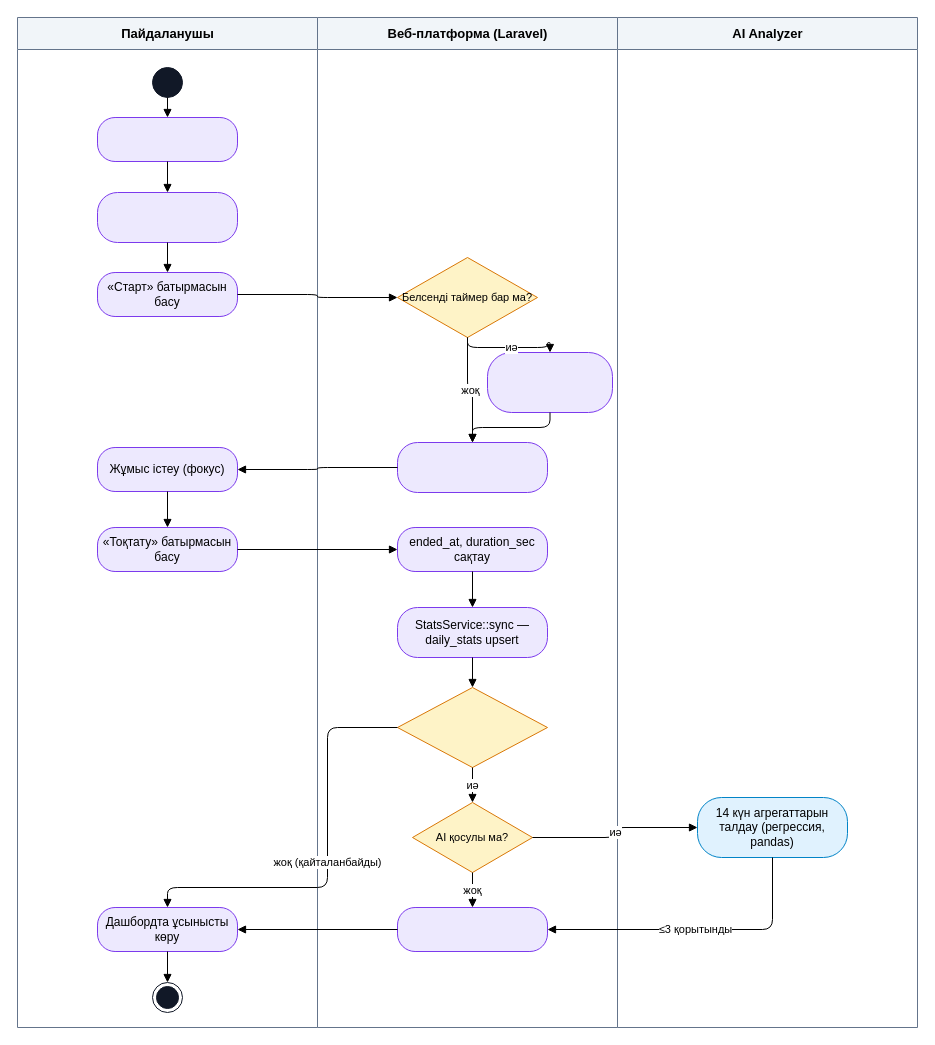
The diagram is 935 pixels wide and 1045 high, and some of its shapes have lost their labels. Each missing label, with the centre of its shape:
"Алдыңғы таймерді тоқтату (duration_sec)" belongs at point (549, 382).
"Ереже кідірісі өтті ме? (rule_key)" belongs at point (472, 727).
"Жаңа time_entry жасау (ended_at = NULL)" belongs at point (472, 467).
"Жүйеге кіру" belongs at point (167, 139).
"Тапсырма құру немесе таңдау" belongs at point (167, 217).
"Ұсыныстарды сақтау (≤4)" belongs at point (472, 929).
